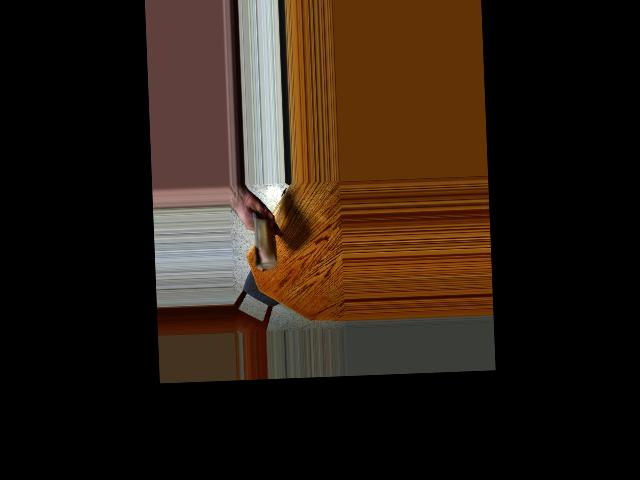cheese: (242, 215, 279, 267)
